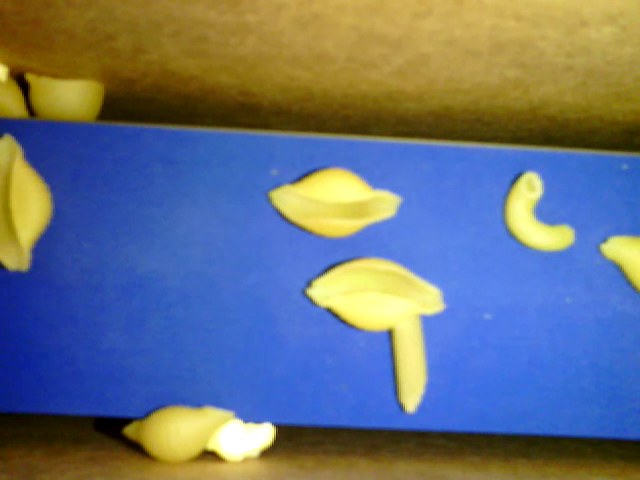elbow: (503, 168, 577, 252)
penne: (390, 314, 430, 416)
shell: (301, 258, 448, 329), (268, 165, 405, 240), (1, 128, 54, 273), (120, 402, 235, 461), (27, 74, 108, 124), (598, 233, 638, 286)
